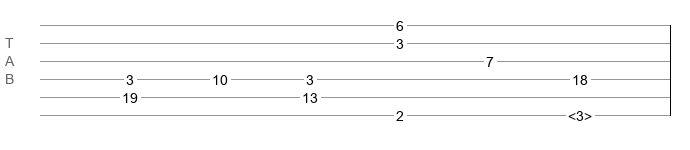10: (212, 72, 228, 82)
13: (302, 90, 318, 100)
18: (572, 72, 588, 82)
19: (122, 90, 138, 100)
2: (396, 108, 404, 118)
3: (126, 72, 134, 82), (306, 72, 314, 82), (396, 36, 404, 46)
6: (396, 18, 404, 28)
7: (486, 54, 494, 64)
harmonic: (568, 108, 592, 118)
